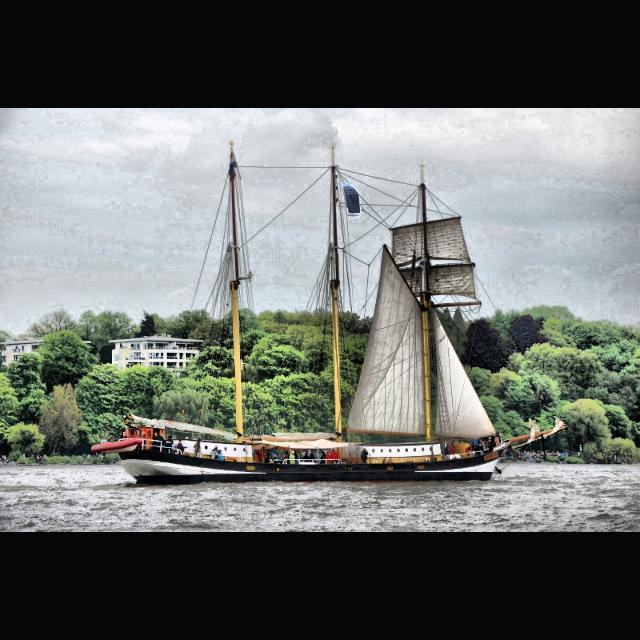sailing_vessel: (117, 144, 568, 484)
